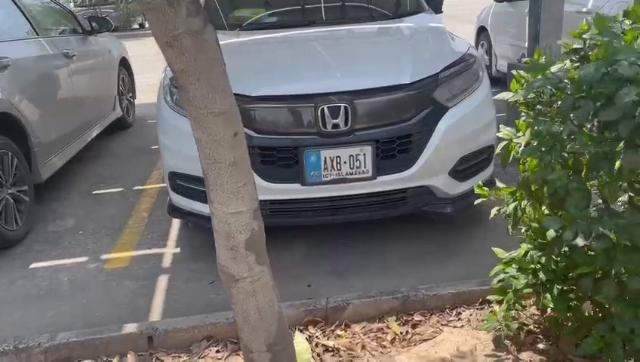plate: (302, 142, 374, 186)
